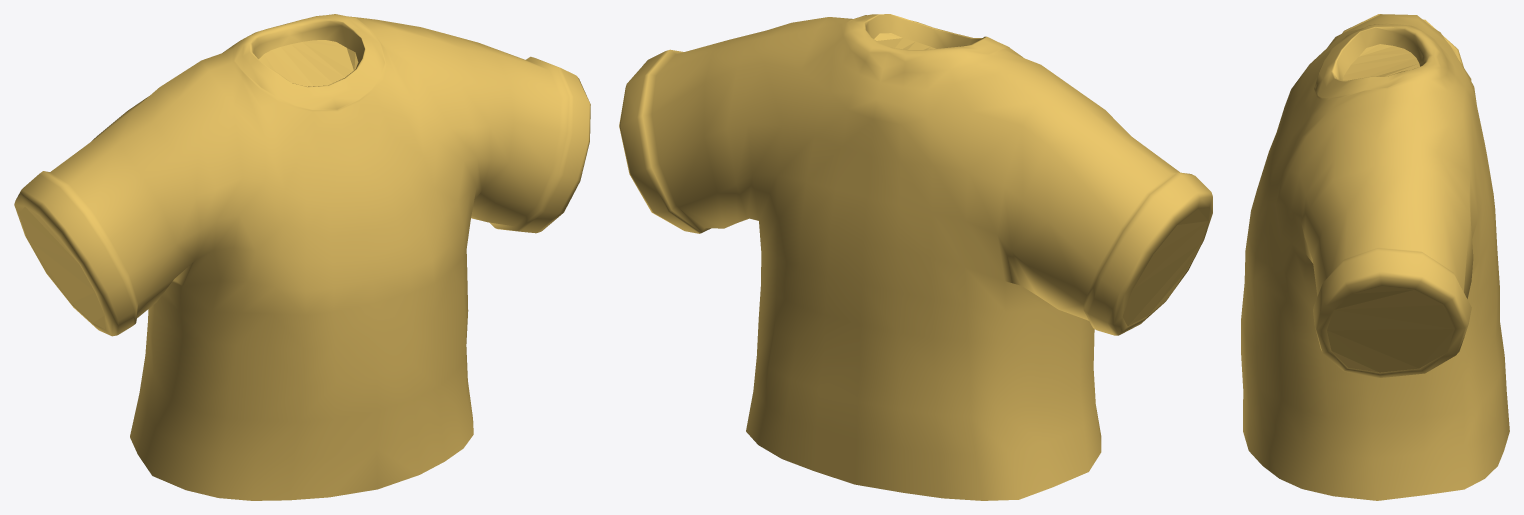
Rendered from Dummy_top_002.glb.
3 renders of one model, left to right at view 1: azimuth 30°, elevation 25°; view 2: azimuth 150°, elevation 25°; view 3: azimuth 270°, elevation 25°, orthographic. The views are drawn at different scales.
Visible parts, largest first — view 1: t-shirt; view 2: t-shirt; view 3: t-shirt.
Boxes of the visible parts, x1,y1,x2,y2 form: t-shirt: [14, 14, 590, 500]; t-shirt: [619, 14, 1212, 500]; t-shirt: [1241, 14, 1509, 500].
Bounding box in the file's own units: 3.18 × 2.23 × 1.42.
